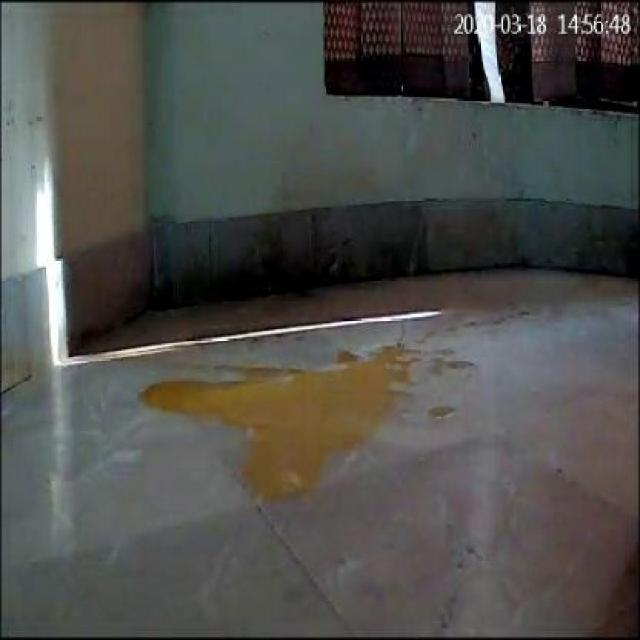spill: (136, 344, 422, 500)
